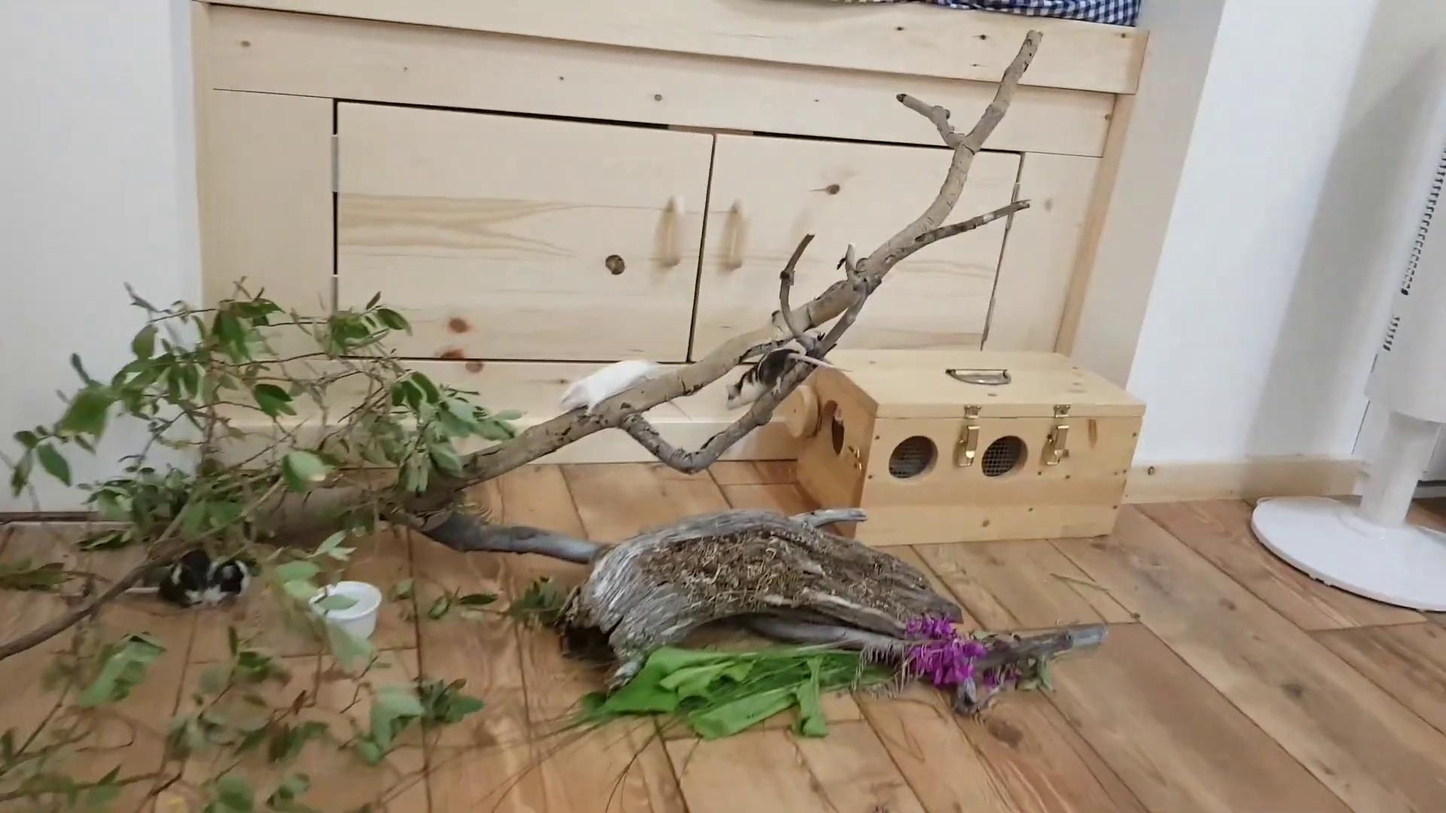rat: (728, 344, 850, 413), (128, 547, 254, 604), (560, 356, 651, 416)
